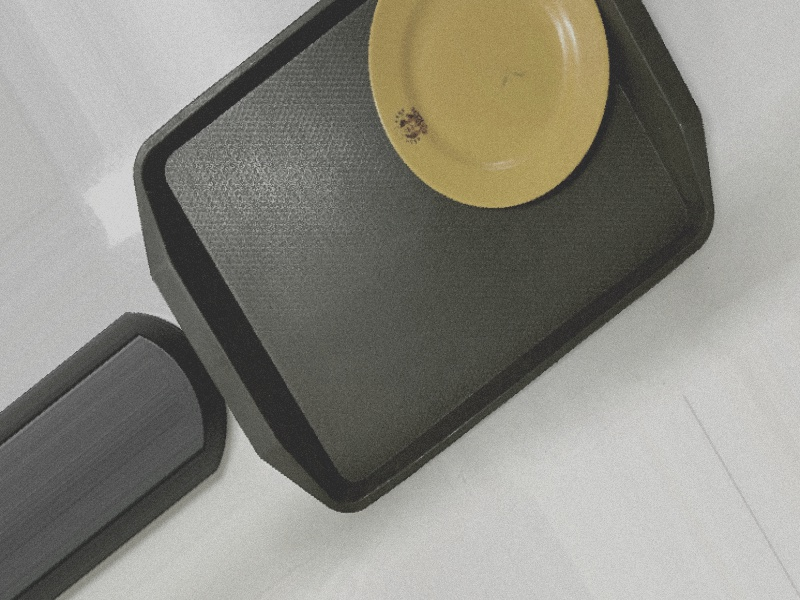dish10: (314, 0, 663, 274)
